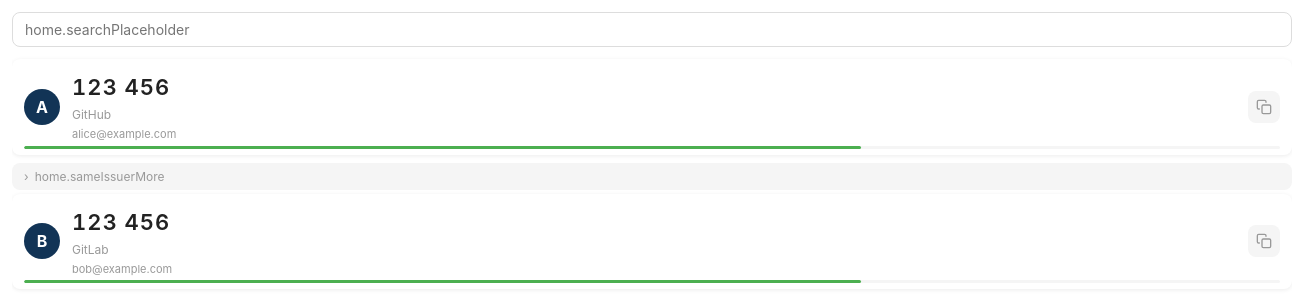
Scenario: AccountCodeList search › should say so when nothing matches
Type "nope" into the search field with class "search-input" at (652, 30), box [12, 12, 1292, 47]
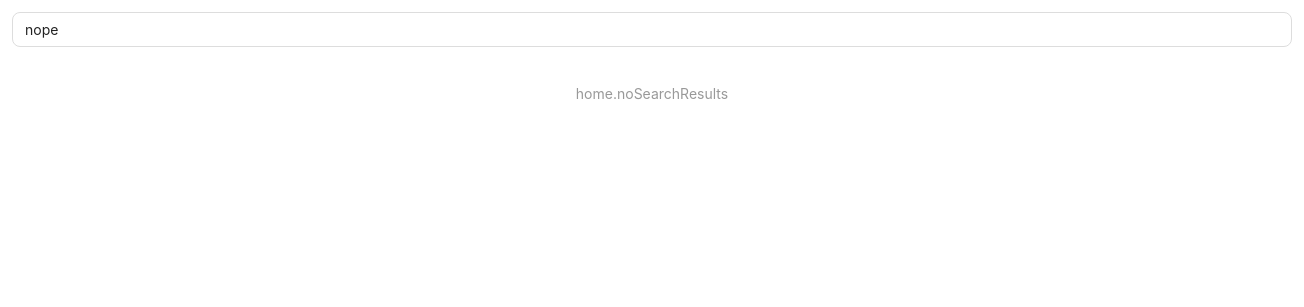
Result: no elements with class "account-card" are shown
Result: the text with class "no-results" reads "home.noSearchResults" at [576, 85, 728, 102]
